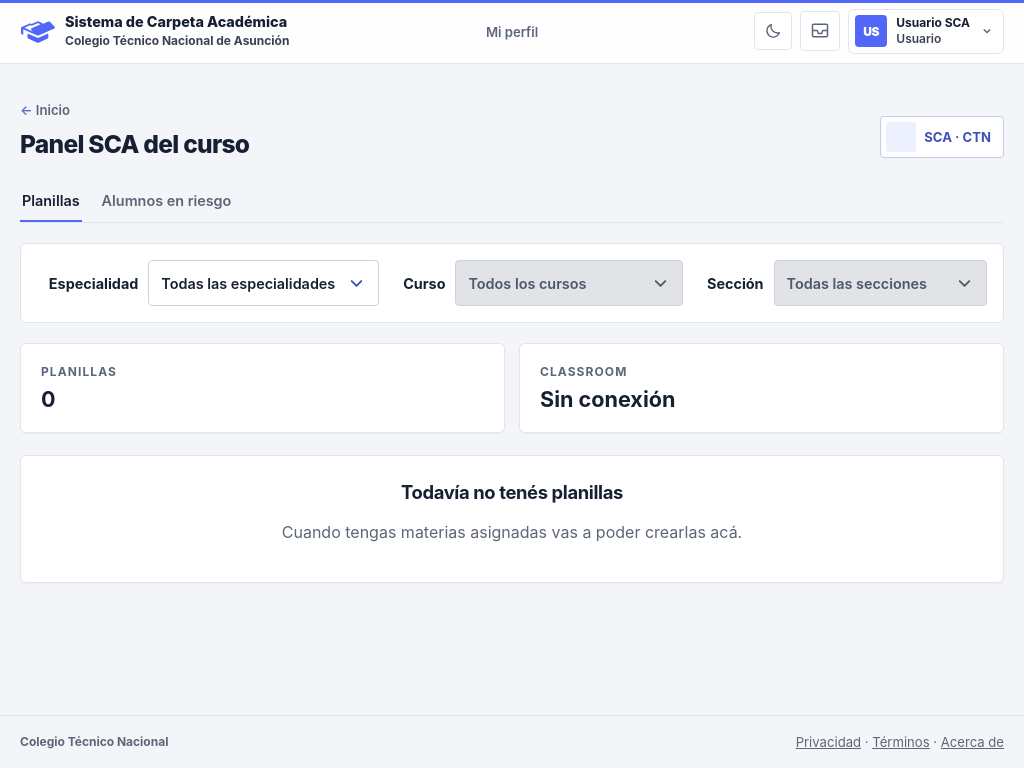
Test: HomePage — vista de planillas › la pestaña "Alumnos en riesgo" navega a esa vista sin recargar planillas de nuevo
The image size is (1024, 768).
Expected: the heading "Todavía no tenés planillas" is shown, 401,481 -> 623,503
What coordinates should you click on to do the following:
click the tab "Alumnos en riesgo"
I would click on:
 (166, 202)
Its box is 100,182 -> 233,222.
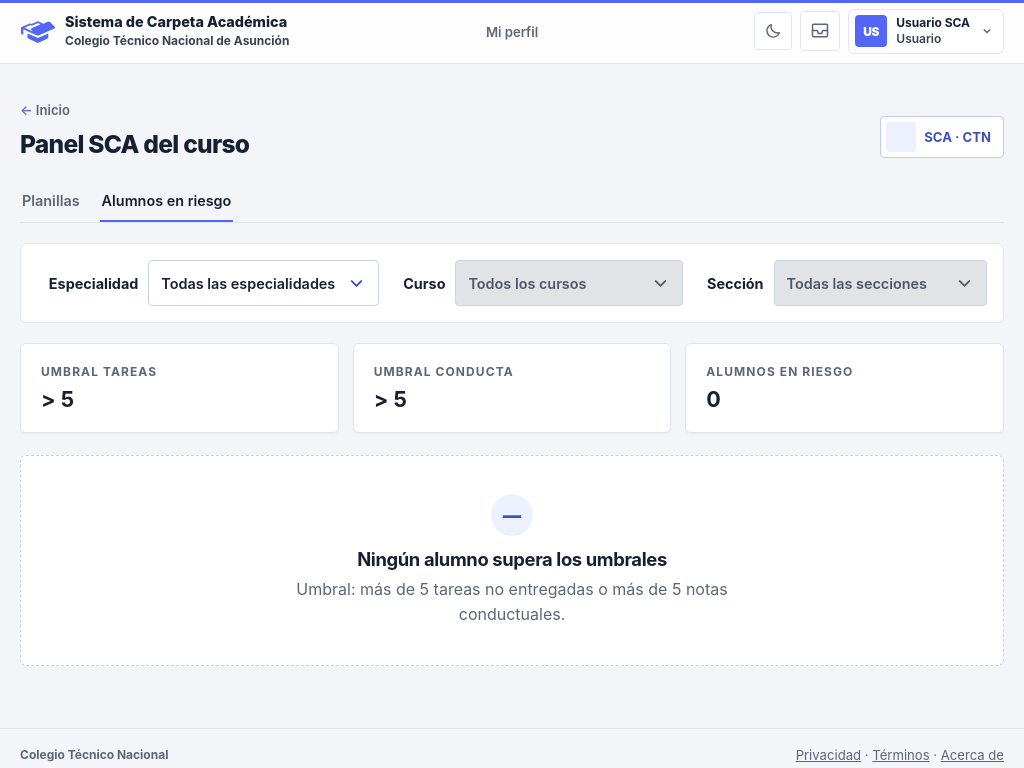
Expected: the heading "Ningún alumno supera los umbrales" is shown, 357,548 -> 667,570
